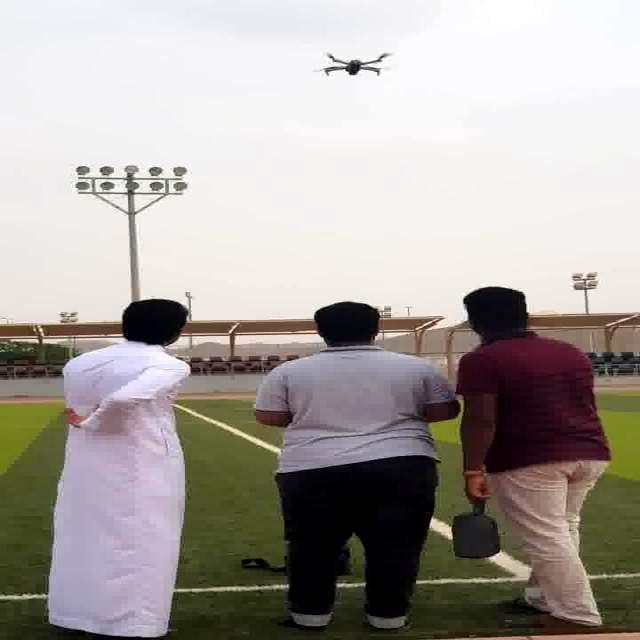drone: (308, 48, 400, 82)
